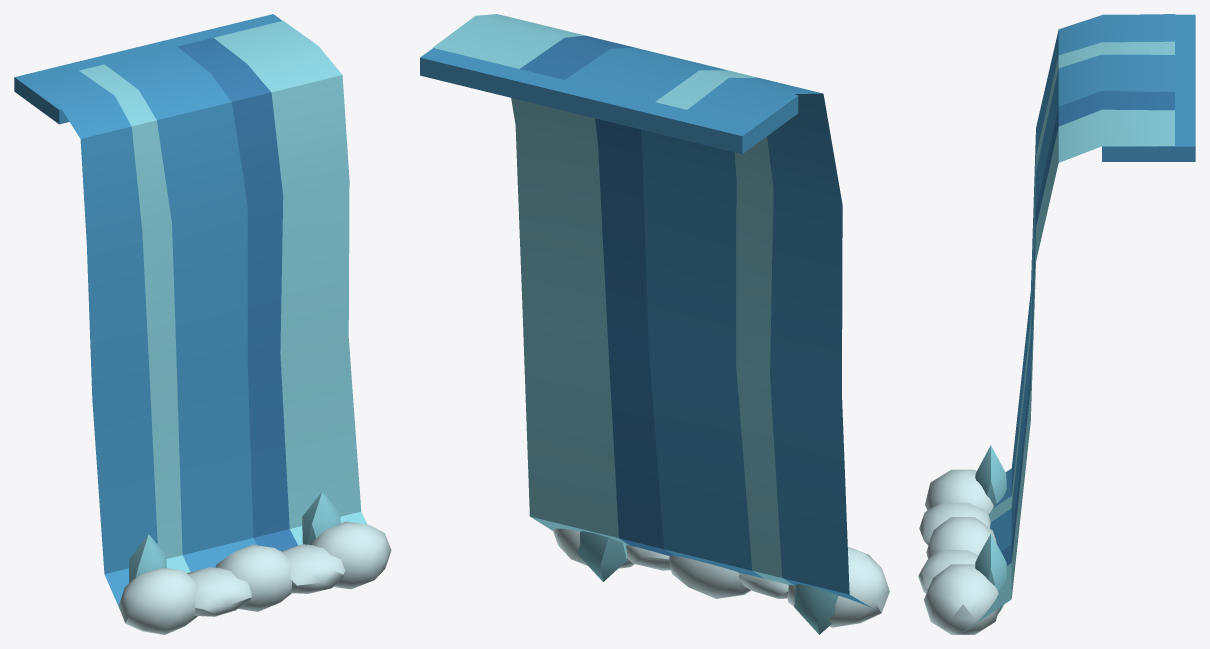
File: waterfall_medium_01.glb
3 renders of one model, left to right at view 1: azimuth 30°, elevation 25°; view 2: azimuth 150°, elevation 25°; view 3: azimuth 270°, elevation 25°, orthographic. The views are drawn at different scales.
Visible parts, largest first — view 1: waterfall_medium_01; view 2: waterfall_medium_01; view 3: waterfall_medium_01.
Part boxes in pixels (<box>): waterfall_medium_01: <box>14,14,391,634</box>; waterfall_medium_01: <box>420,14,889,634</box>; waterfall_medium_01: <box>918,14,1195,634</box>.
Size of the model in its own units: 0.9264 by 1.6 by 0.7994.
